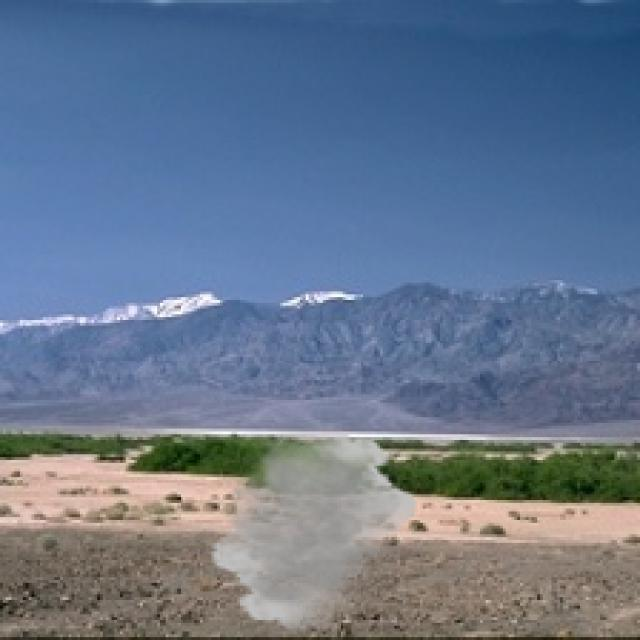smoke: (209, 426, 420, 634)
